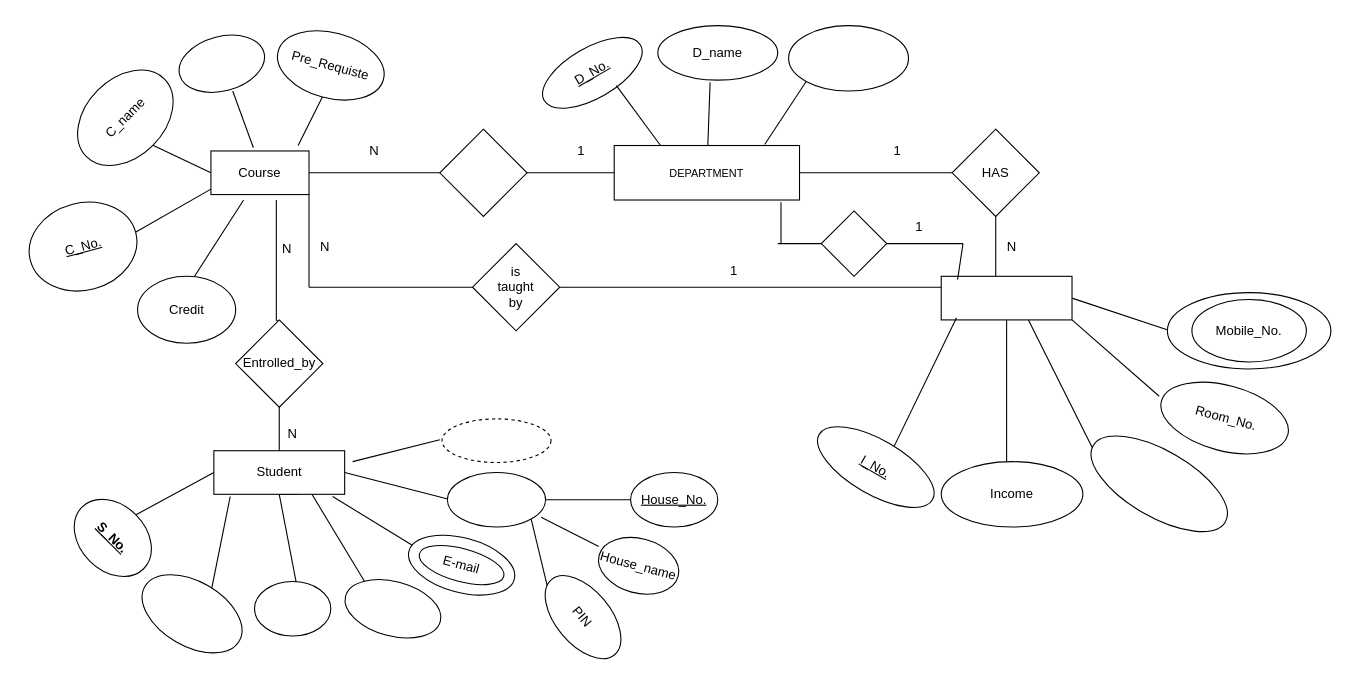
This 1351x691 diagram has some shape labels left out. Here are the shapes that lost their labels. From the top down, the box of each, then its label:
(171, 25, 271, 101): Duration
(788, 25, 909, 91): D_Location
(439, 128, 527, 216): Offers
(820, 210, 887, 276): is headed by
(940, 275, 1072, 320): INSTRUCTOR
(441, 418, 551, 462): AGE
(446, 471, 546, 527): Address
(1075, 416, 1242, 551): Designation
(127, 557, 256, 669): S_Name
(253, 580, 331, 636): Gender
(337, 569, 448, 648): DOB
